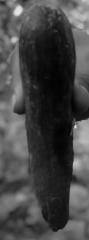organic: (19, 3, 81, 233)
